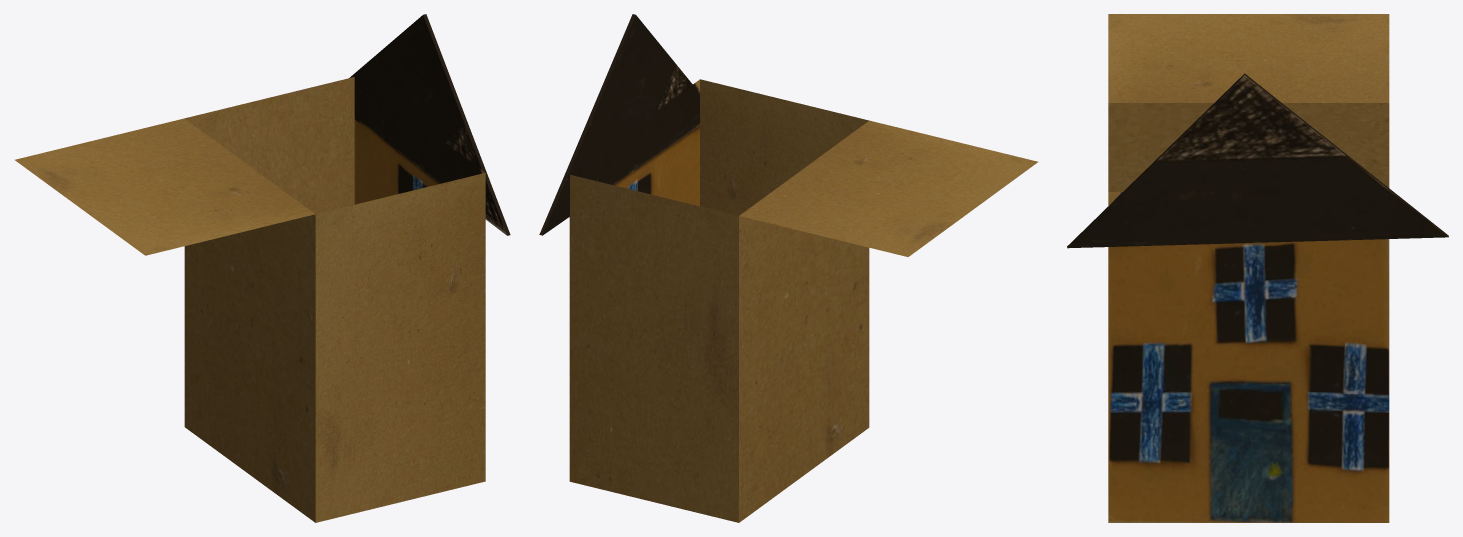
The picture shows the model from 3 angles, left to right: view 1: azimuth 30°, elevation 25°; view 2: azimuth 150°, elevation 25°; view 3: azimuth 270°, elevation 25°; orthographic projection. The views are drawn at different scales.
Parts seen in each view (by area): view 1: Cube, Cube.002, Cube.003; view 2: Cube, Cube.002, Cube.003; view 3: Cube, Cube.002, Cube.003.
Boxes of the visible parts, x1=… form: Cube: x1=184, y1=14, x2=510, y2=522; Cube.002: x1=15, y1=118, x2=314, y2=255; Cube.003: x1=185, y1=77, x2=485, y2=214; Cube: x1=539, y1=14, x2=869, y2=522; Cube.002: x1=739, y1=120, x2=1038, y2=256; Cube.003: x1=576, y1=79, x2=868, y2=215; Cube: x1=1067, y1=73, x2=1448, y2=522; Cube.002: x1=1108, y1=14, x2=1389, y2=102; Cube.003: x1=1108, y1=103, x2=1389, y2=191.
Bounding box in the file's own units: 15.25 × 17.68 × 13.59.
1 material, 1 textured.
